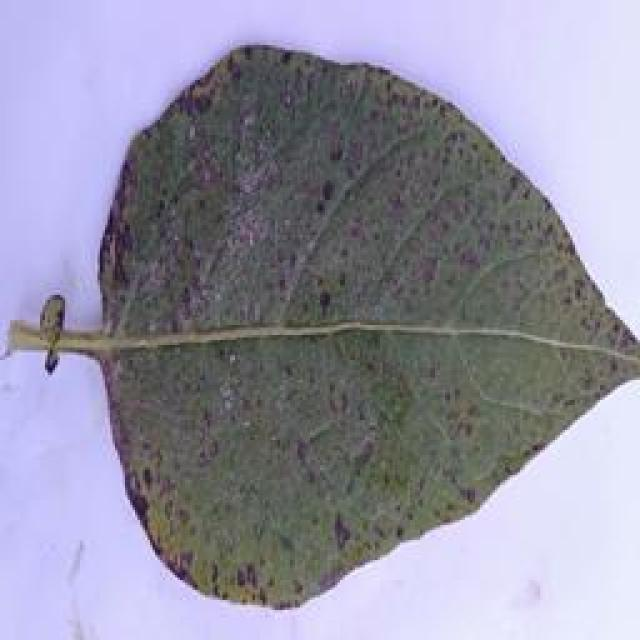Potato_Early_Blight: (88, 25, 640, 612)
